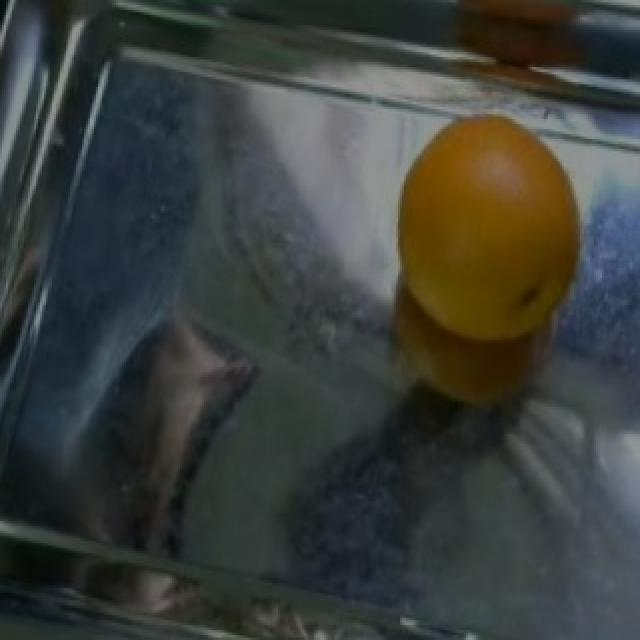Fruit: (384, 112, 596, 357)
